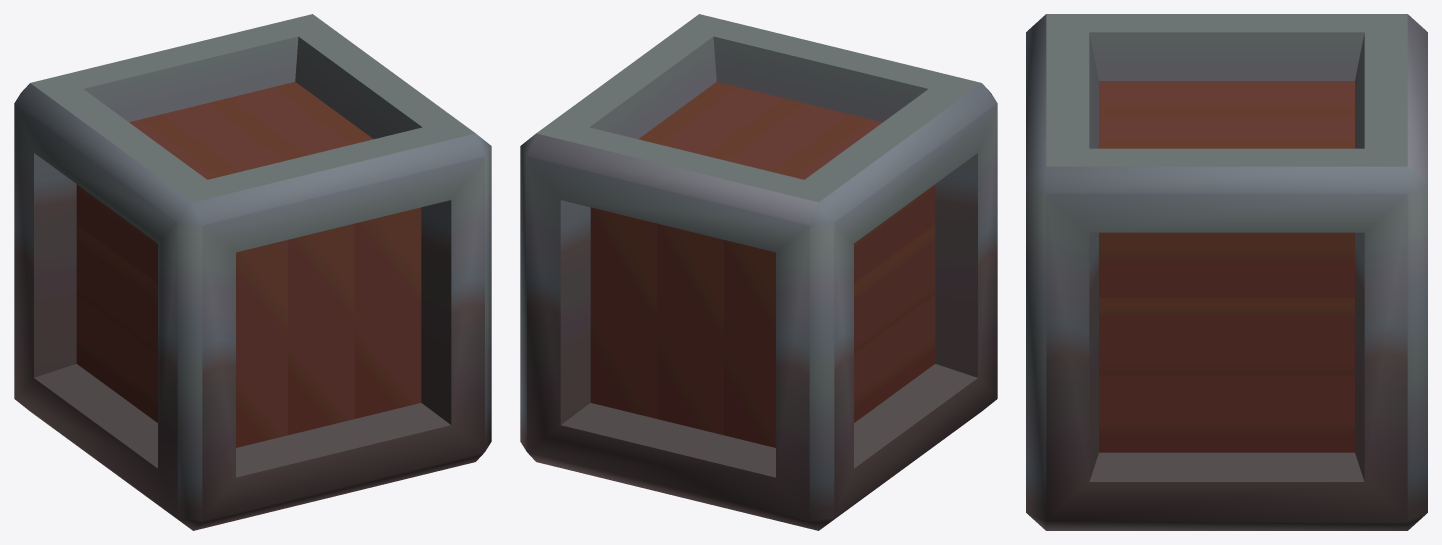
Rendered from crate.glb.
The picture shows the model from 3 angles, left to right: view 1: azimuth 30°, elevation 25°; view 2: azimuth 150°, elevation 25°; view 3: azimuth 270°, elevation 25°; orthographic projection. The views are drawn at different scales.
Visible parts, largest first — view 1: crate; view 2: crate; view 3: crate.
Boxes of the visible parts, x1,y1,x2,y2 form: crate: [14, 14, 491, 530]; crate: [520, 14, 997, 530]; crate: [1026, 14, 1427, 530].
Bounding box in the file's own units: 1.5 × 1.5 × 1.5.
1 material, 1 textured.
